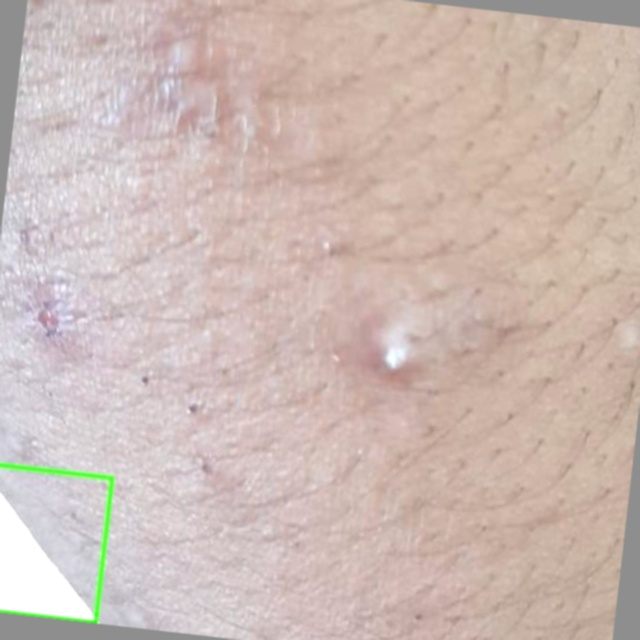Scabies: (0, 465, 112, 622)
